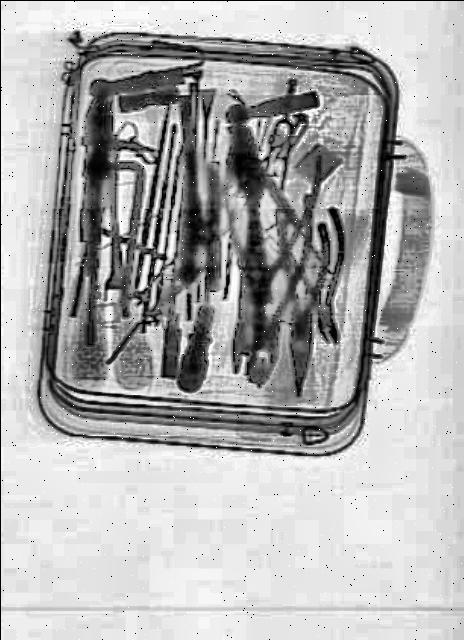Pliers: (199, 134, 326, 388), (217, 188, 318, 390), (274, 214, 334, 396), (283, 205, 355, 352)
